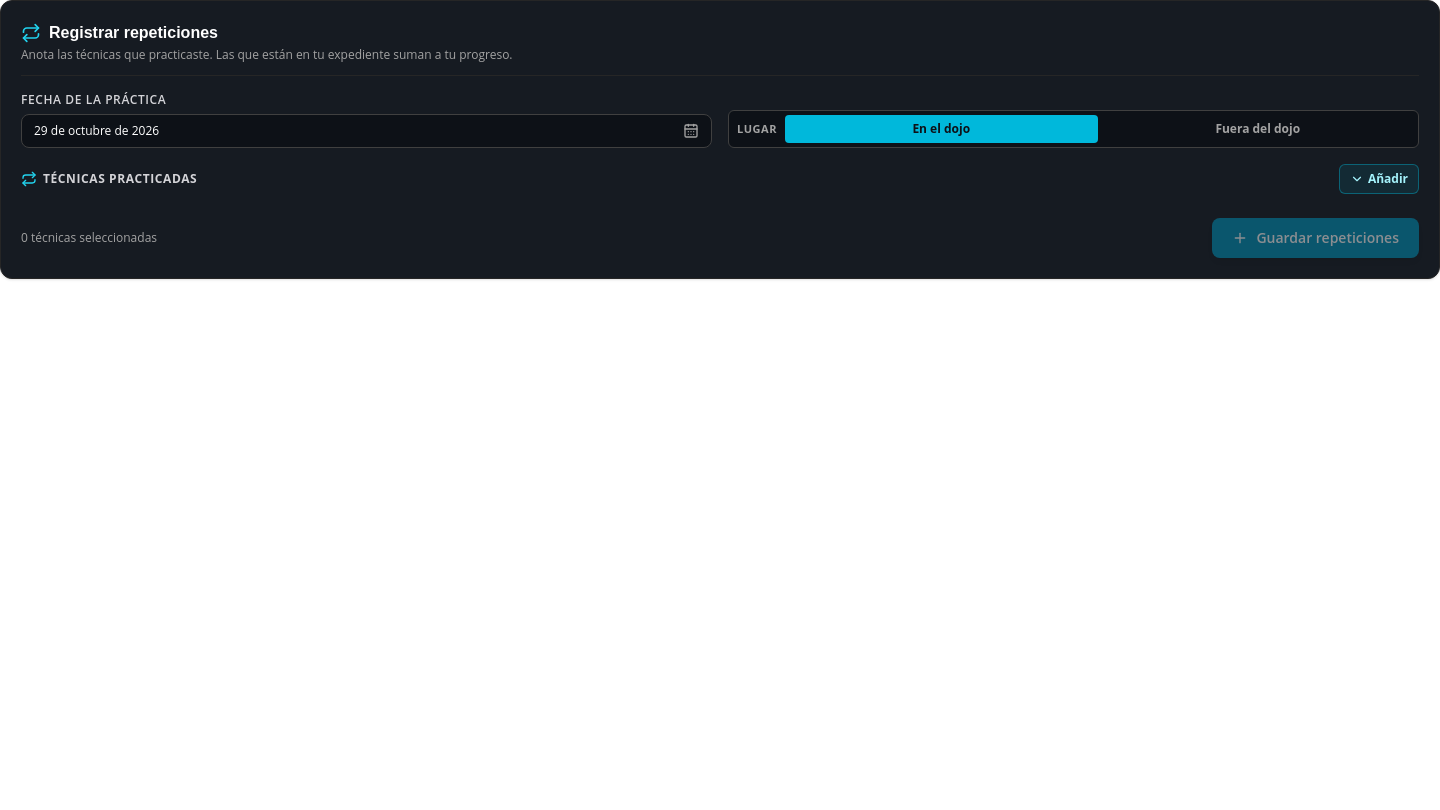
Test case: registro de repeticiones › muestra las técnicas de Kihon del catálogo aunque no estén asignadas
This screenshot has width=1440, height=810.
Click the button "Añadir" at (1379,179), box [1339,164,1419,194]
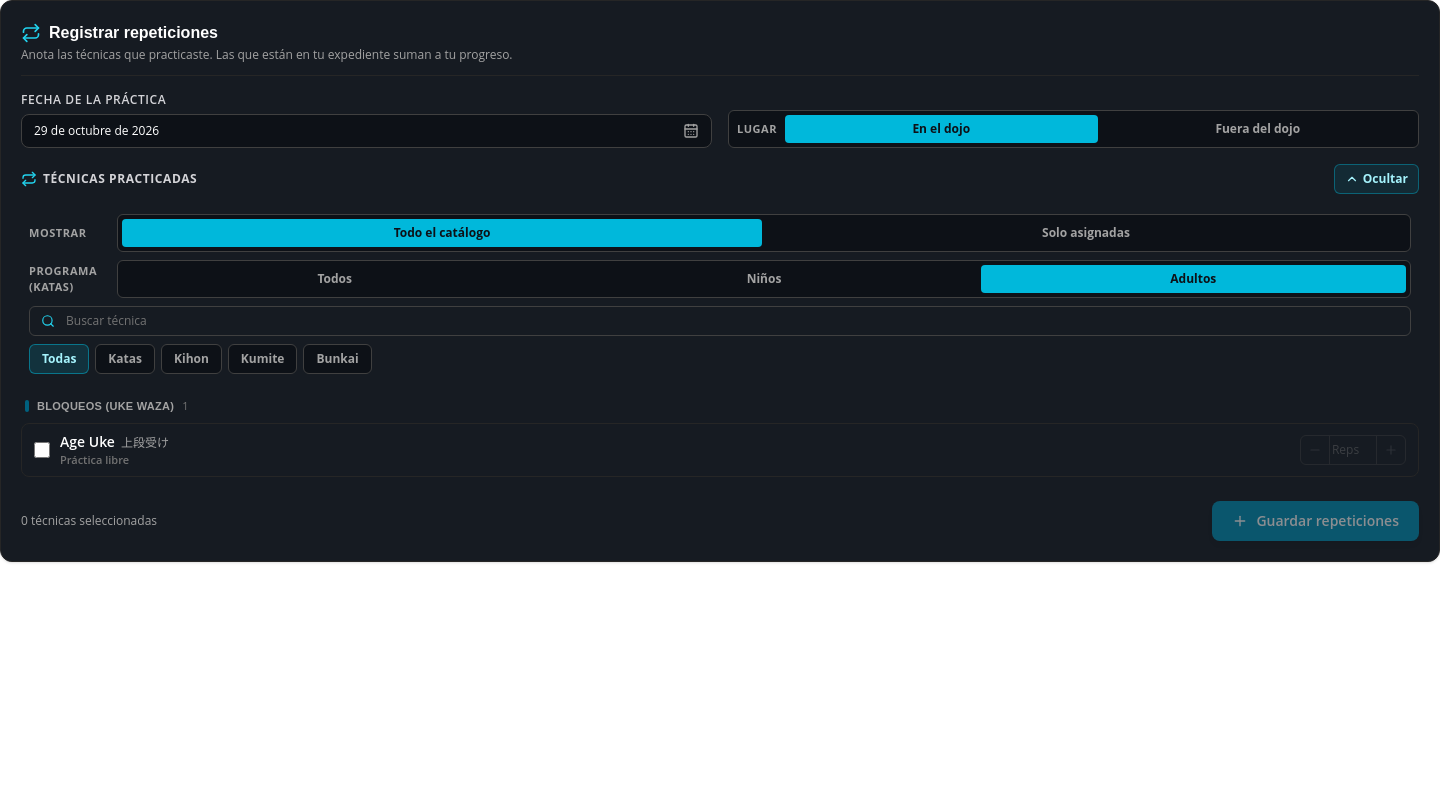
Expected: the text "Age Uke" is shown, [60,432,115,452]
Expected: the text "Práctica libre" is shown, [60,452,129,466]
